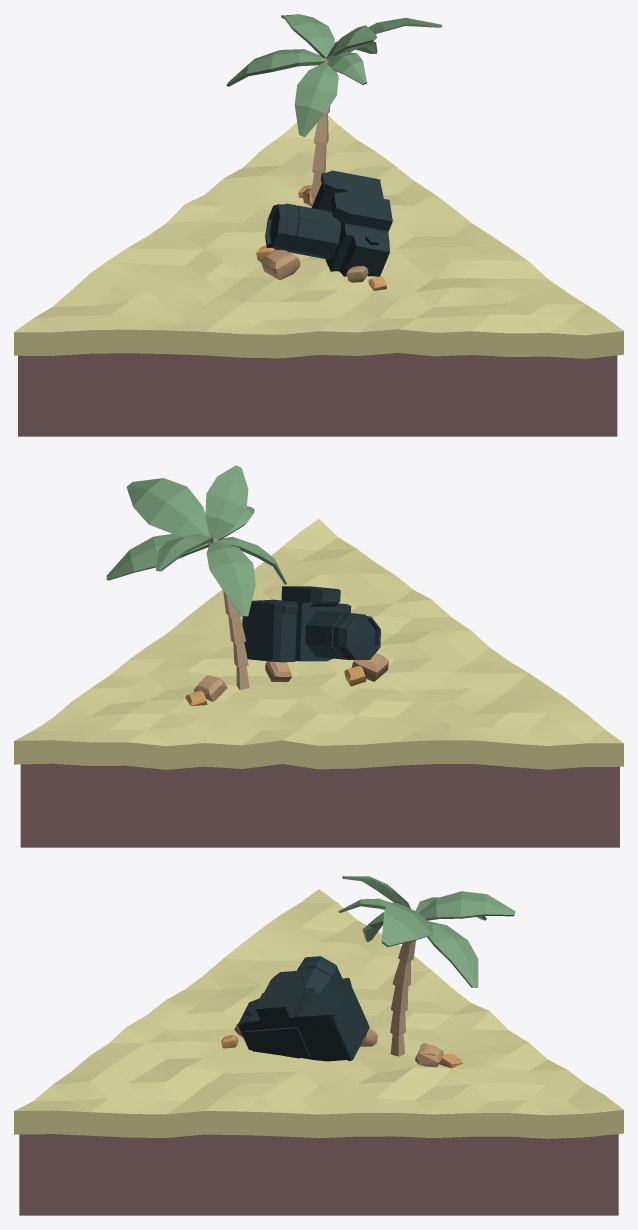
File: TILE_03_01_Beach.fbx
3 views of the same model, one above another, from view 1: azimuth 30°, elevation 25°; view 2: azimuth 150°, elevation 25°; view 3: azimuth 270°, elevation 25° (orthographic).
Visible parts, largest first — view 1: TILESURFACE14, TILE18, pCube34, pCylinder48, pCube49, pCube45, pCube46, pCube43, pCube36, pCube50, pCube48, pCube47; view 2: TILESURFACE14, TILE18, pCube34, pCube47, pCylinder48, pCube45, pCube48, pCube51, pCube43, pCube46, pCube49, pCube36 (+1 smaller); view 3: TILESURFACE14, TILE18, pCube34, pCube46, pCube43, pCube51, pCube47, pCube35, pCylinder48, pCube48, pCube52.
Boxes of the visible parts, box(x1,y1,x2,y2) form: TILESURFACE14: box(14, 115, 623, 358); TILE18: box(18, 353, 617, 436); pCube34: box(311, 170, 392, 276); pCylinder48: box(265, 203, 341, 258); pCube49: box(294, 62, 338, 136); pCube45: box(226, 49, 325, 86); pCube46: box(281, 14, 334, 58); pCube43: box(311, 58, 330, 206); pCube36: box(261, 250, 300, 279); pCube50: box(327, 52, 366, 84); pCube48: box(326, 25, 376, 61); pCube47: box(338, 17, 441, 54); TILESURFACE14: box(14, 519, 623, 769); TILE18: box(20, 763, 619, 847); pCube34: box(242, 586, 351, 662); pCube47: box(126, 478, 209, 536); pCylinder48: box(305, 611, 380, 659); pCube45: box(206, 541, 255, 616); pCube48: box(205, 465, 248, 540); pCube51: box(106, 534, 208, 580); pCube43: box(209, 538, 249, 690); pCube46: box(156, 534, 213, 571); pCube49: box(218, 537, 286, 584); pCube36: box(351, 653, 388, 681); TILESURFACE14: box(14, 889, 623, 1138); TILE18: box(19, 1134, 618, 1215); pCube34: box(237, 970, 369, 1061); pCube46: box(419, 891, 515, 920); pCube43: box(390, 940, 416, 1056); pCube51: box(427, 921, 478, 987); pCube47: box(381, 902, 432, 947); pCube35: box(244, 1027, 310, 1058); pCylinder48: box(297, 956, 342, 992); pCube48: box(342, 876, 410, 908); pCube52: box(415, 1043, 443, 1067).
Bounding box in the file's own units: 154 × 96.02 × 176.
